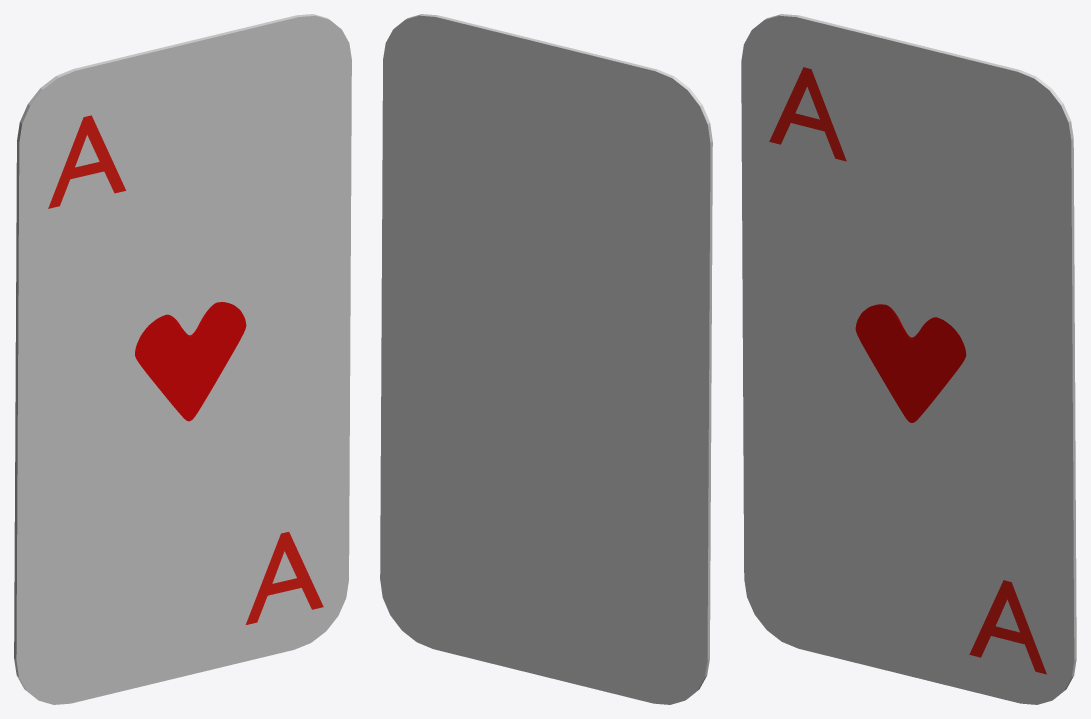
The model's file is ace_hearts.fbx.
The picture shows the model from 3 angles, left to right: view 1: azimuth 30°, elevation 25°; view 2: azimuth 150°, elevation 25°; view 3: azimuth 330°, elevation 25°; orthographic projection.
Visible parts, largest first — view 1: card_frame, hearts, ace_letter.left, ace_letter.right; view 2: card_frame; view 3: card_frame, hearts, ace_letter.left, ace_letter.right.
Part boxes in pixels (x1,y1,x2,y2): card_frame: (14,14,351,704); hearts: (135,302,246,421); ace_letter.left: (48,115,125,208); ace_letter.right: (246,532,323,624); card_frame: (380,14,712,704); card_frame: (741,14,1076,704); hearts: (855,304,966,422); ace_letter.left: (769,67,846,161); ace_letter.right: (969,580,1046,674).
Bounding box in the file's own units: 109 × 200 × 3.88.
